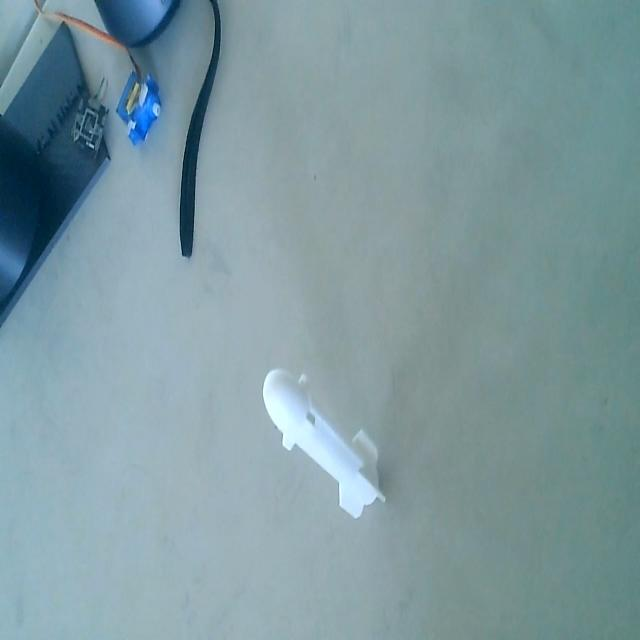Rocket: (260, 357, 390, 533)
